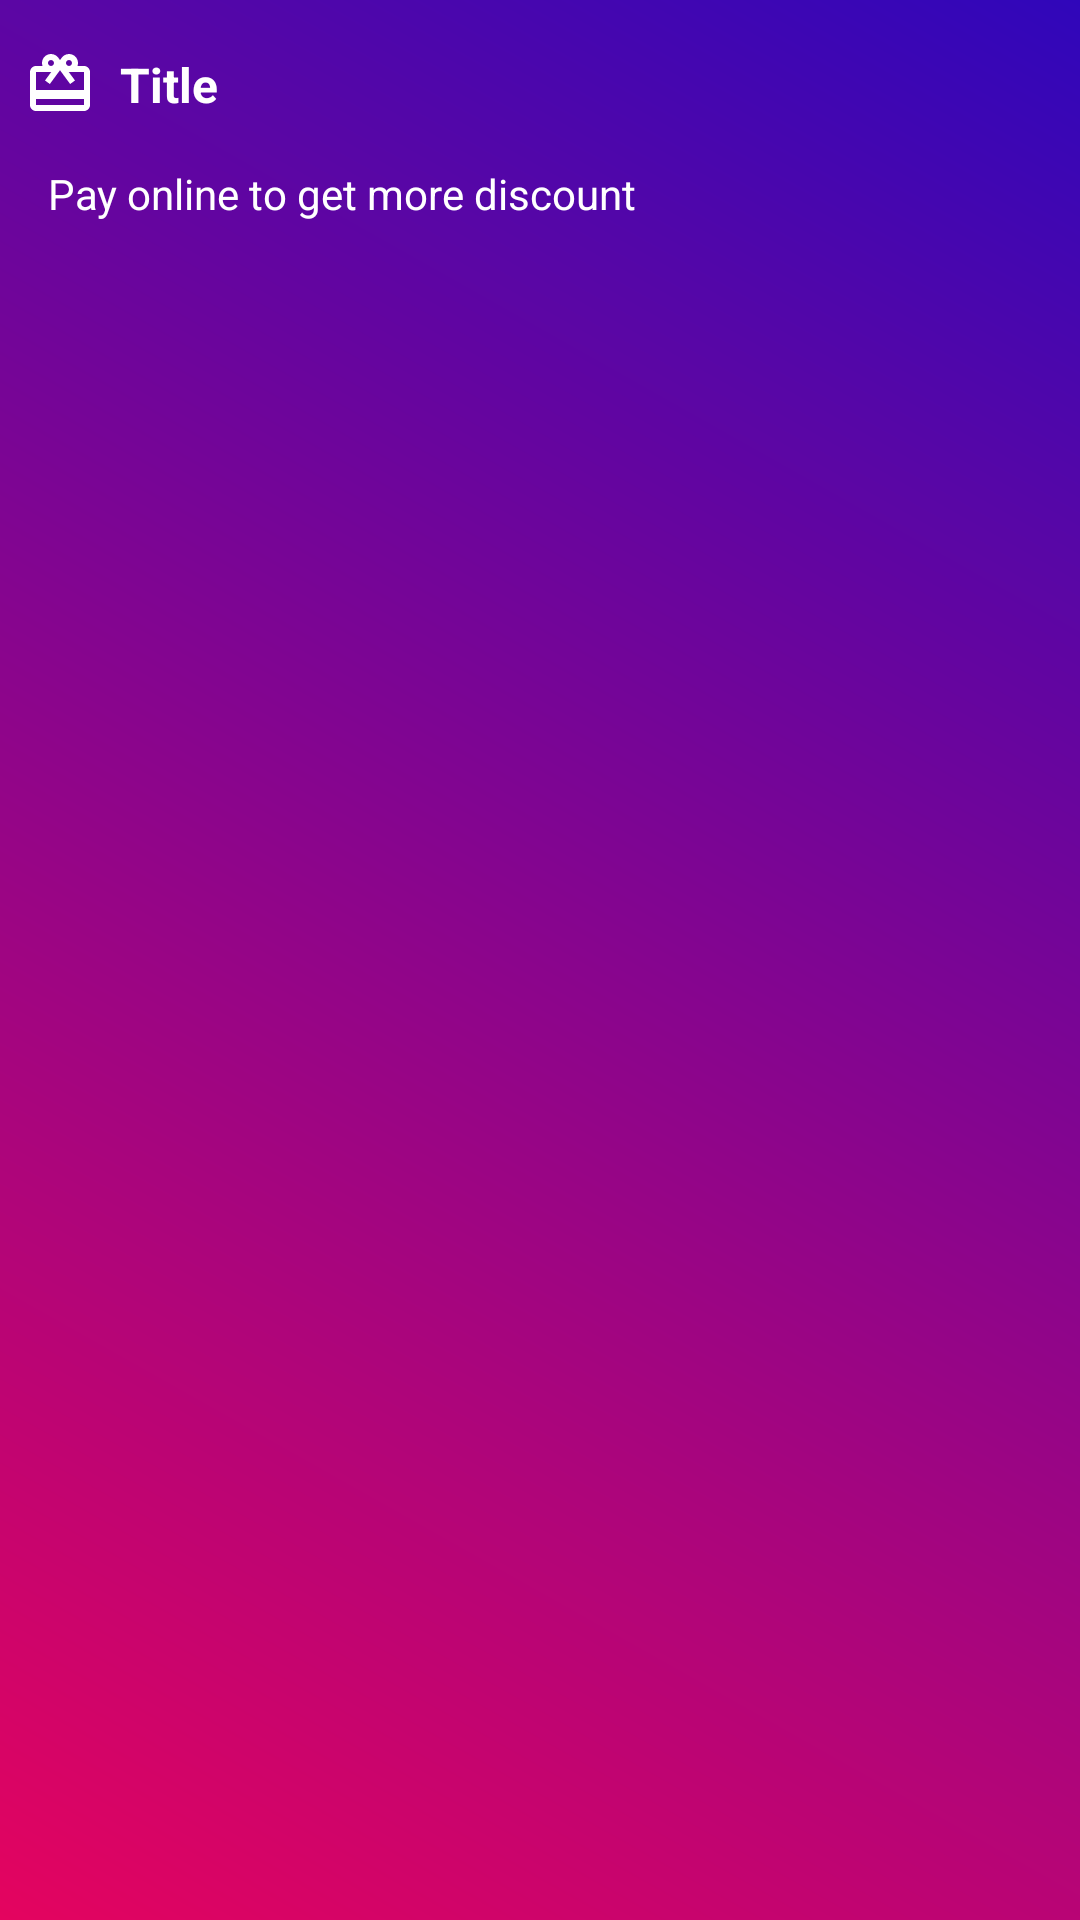

Icons on this 1080 x 1920 Android screen, each with the point to tap as point (x, y):
rewards: point (60, 82)
